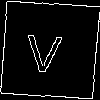V: (24, 24, 64, 74)
